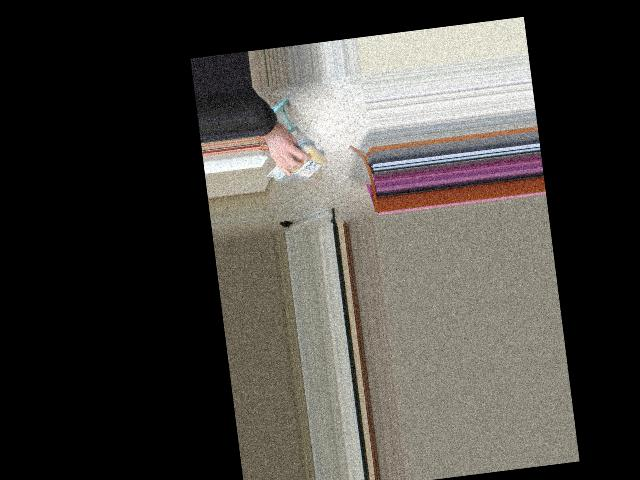cheese: (267, 146, 334, 181)
